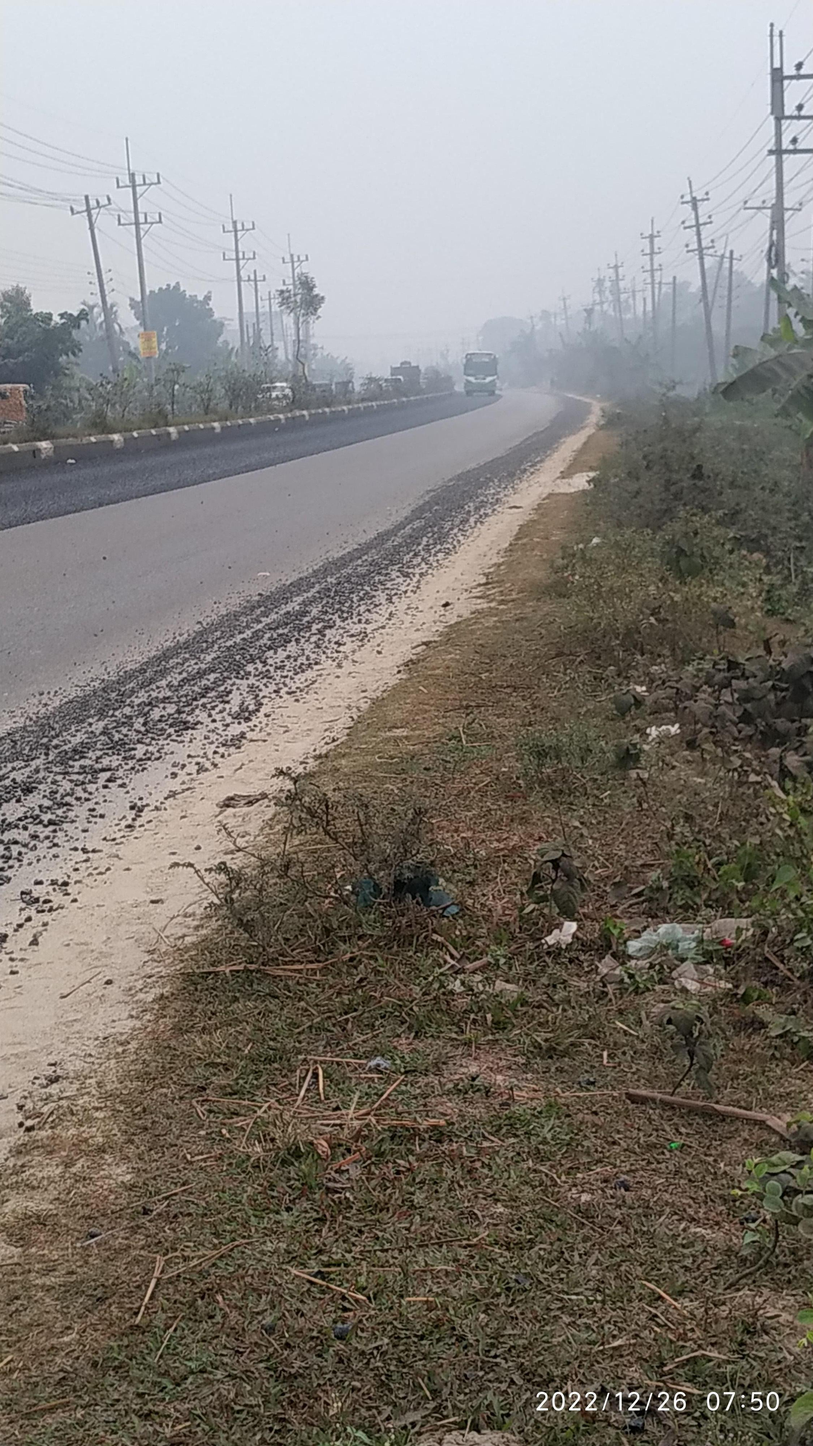Bus: (448, 336, 528, 431)
